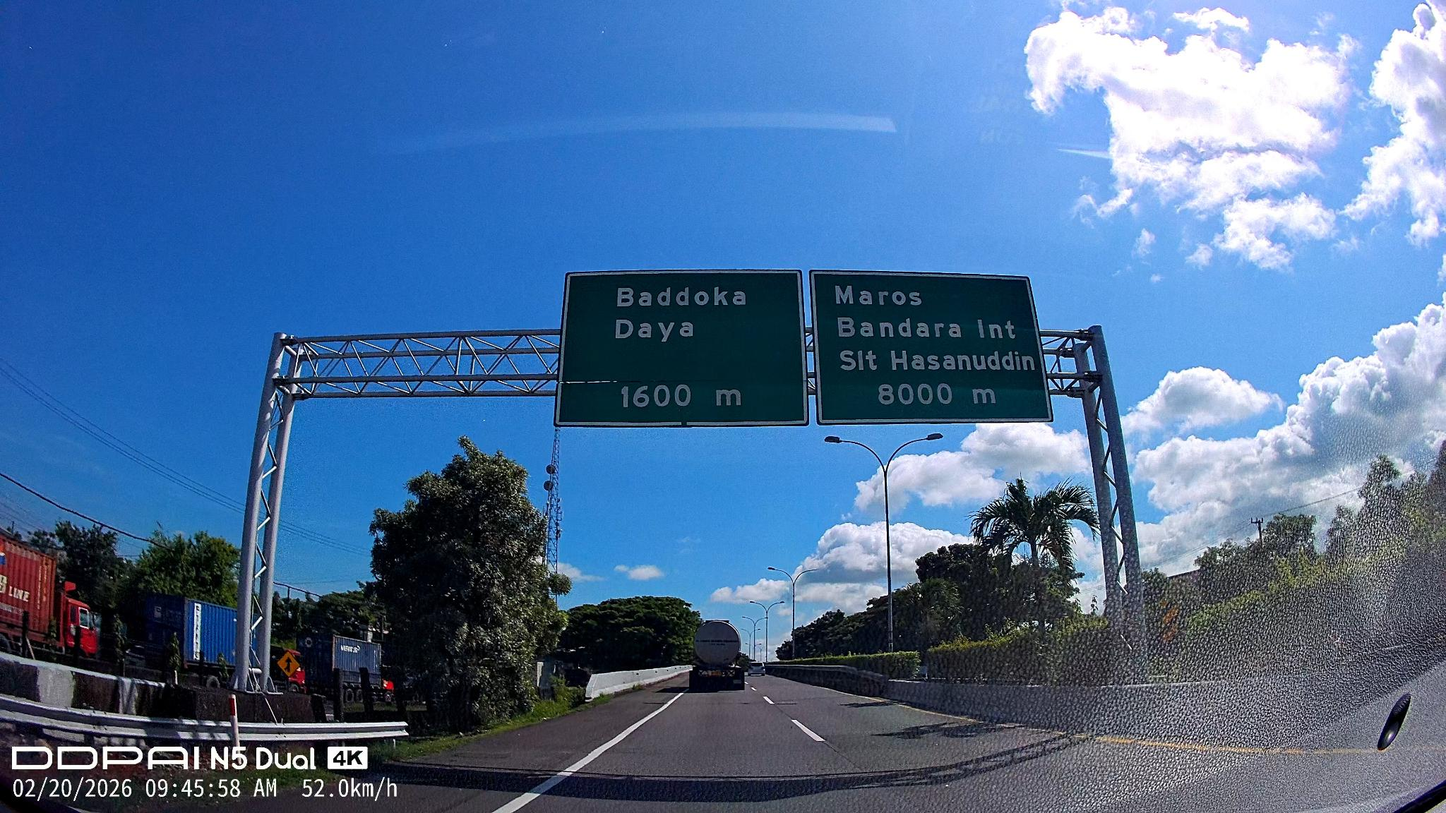rambu_teks: (551, 267, 811, 429), (807, 268, 1057, 428)
